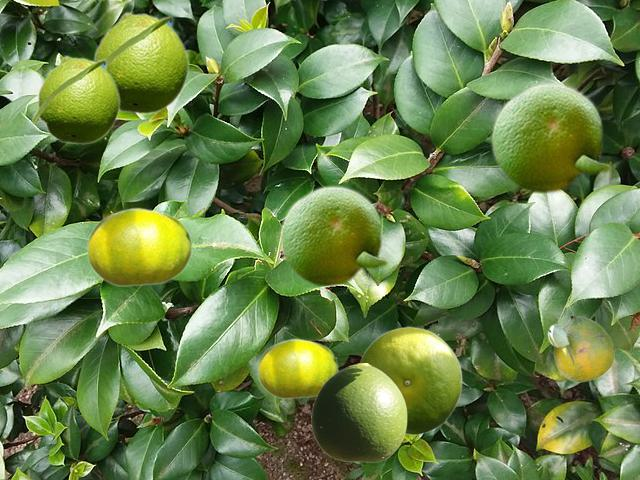dalandan: (489, 81, 611, 193), (278, 183, 389, 286), (359, 326, 461, 434), (91, 11, 189, 114), (311, 363, 406, 461), (86, 207, 191, 286), (30, 55, 120, 144), (257, 338, 337, 398), (547, 316, 613, 381)
